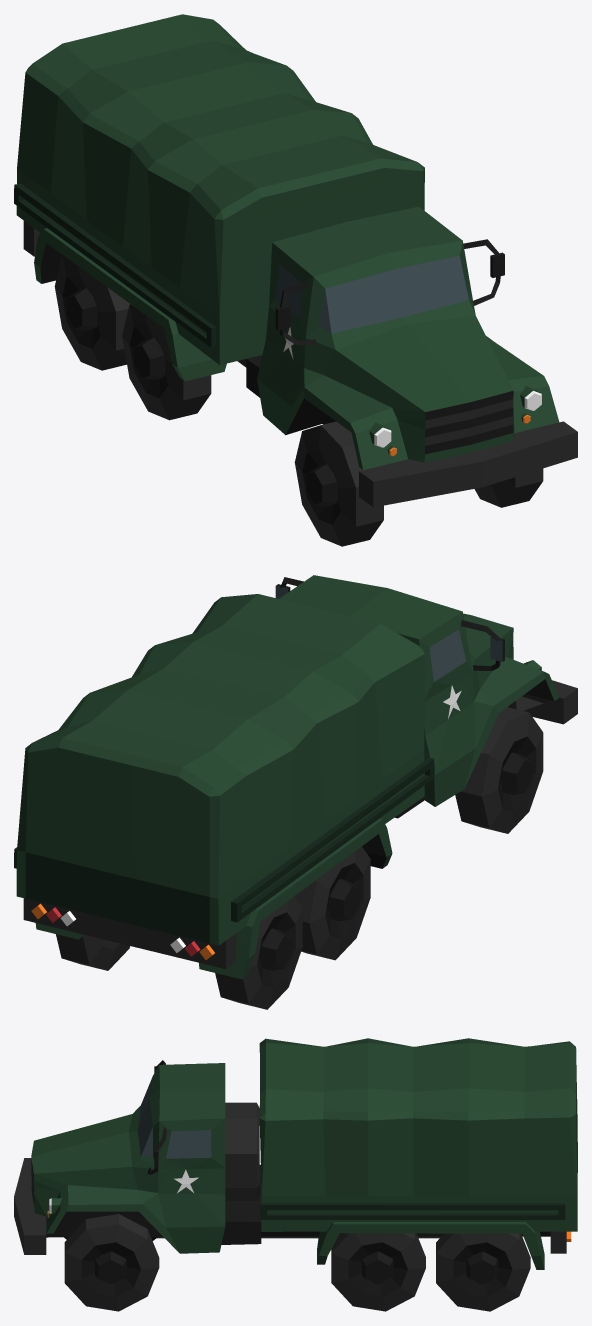
The model's file is military_military-truck.fbx.
3 renders of one model, top to bottom at view 1: azimuth 30°, elevation 25°; view 2: azimuth 150°, elevation 25°; view 3: azimuth 270°, elevation 25°, orthographic. The views are drawn at different scales.
Parts seen in each view (by area): view 1: military_truck_base, military_truck_wheel_FR, military_truck_wheel_BR2, military_truck_wheel_BR1, military_truck_wheel_FL; view 2: military_truck_base, military_truck_wheel_FR, military_truck_wheel_BR1, military_truck_wheel_BR2, military_truck_wheel_LR2; view 3: military_truck_base, military_truck_wheel_FL, military_truck_wheel_LR2, military_truck_wheel_LR1.
Boxes of the visible parts, <box> form: military_truck_base: <box>14,14,577,507</box>; military_truck_wheel_FR: <box>294,421,383,546</box>; military_truck_wheel_BR2: <box>54,255,130,370</box>; military_truck_wheel_BR1: <box>122,304,211,420</box>; military_truck_wheel_FL: <box>474,468,543,507</box>; military_truck_base: <box>14,575,577,979</box>; military_truck_wheel_FR: <box>455,707,543,833</box>; military_truck_wheel_BR1: <box>294,846,370,960</box>; military_truck_wheel_BR2: <box>215,896,302,1009</box>; military_truck_wheel_LR2: <box>56,934,130,970</box>; military_truck_base: <box>14,1038,577,1269</box>; military_truck_wheel_FL: <box>64,1214,159,1311</box>; military_truck_wheel_LR2: <box>436,1233,530,1311</box>; military_truck_wheel_LR1: <box>331,1233,425,1311</box>.
Size of the model in its own units: 71.81 by 82.39 by 200.
